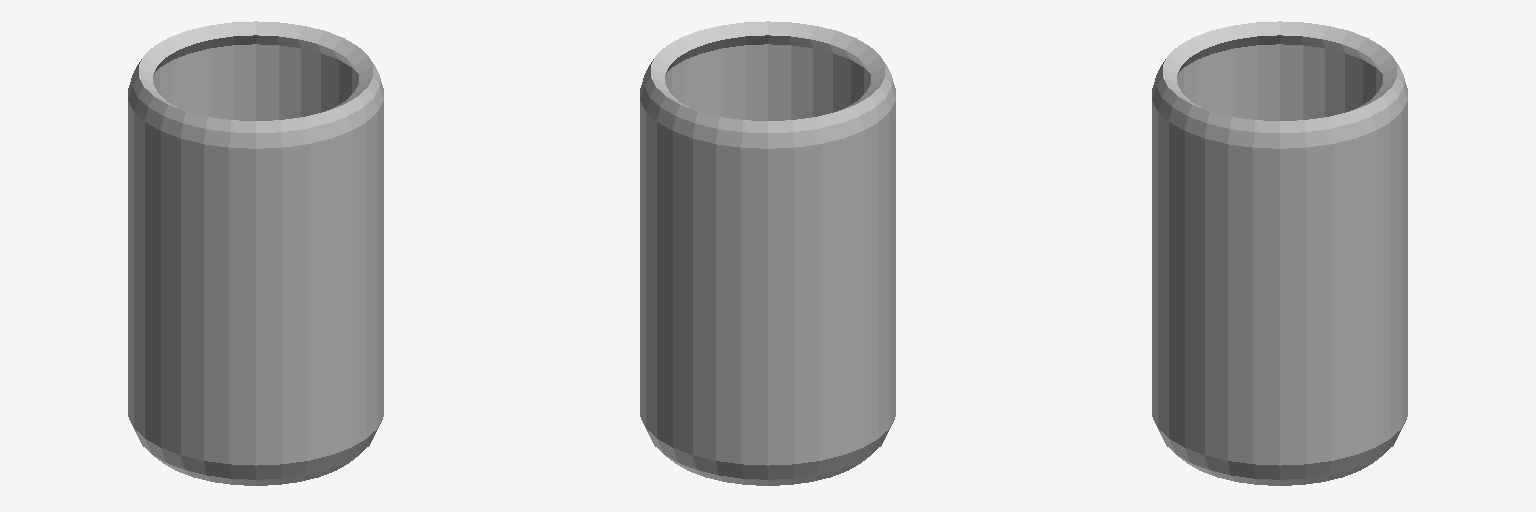
The model's file is Panda_Cup2.obj.
3 renders of one model, left to right at view 1: azimuth 30°, elevation 25°; view 2: azimuth 150°, elevation 25°; view 3: azimuth 270°, elevation 25°, orthographic.
Parts seen in each view (by area): view 1: polySurface6 Panda_Bottle; view 2: polySurface6 Panda_Bottle; view 3: polySurface6 Panda_Bottle.
Part boxes in pixels (left/top/right/bottom): polySurface6 Panda_Bottle: left=128, top=21, right=383, bottom=485; polySurface6 Panda_Bottle: left=640, top=21, right=895, bottom=485; polySurface6 Panda_Bottle: left=1152, top=21, right=1407, bottom=485.
Bounding box in the file's own units: 9.35 × 14.84 × 9.3.